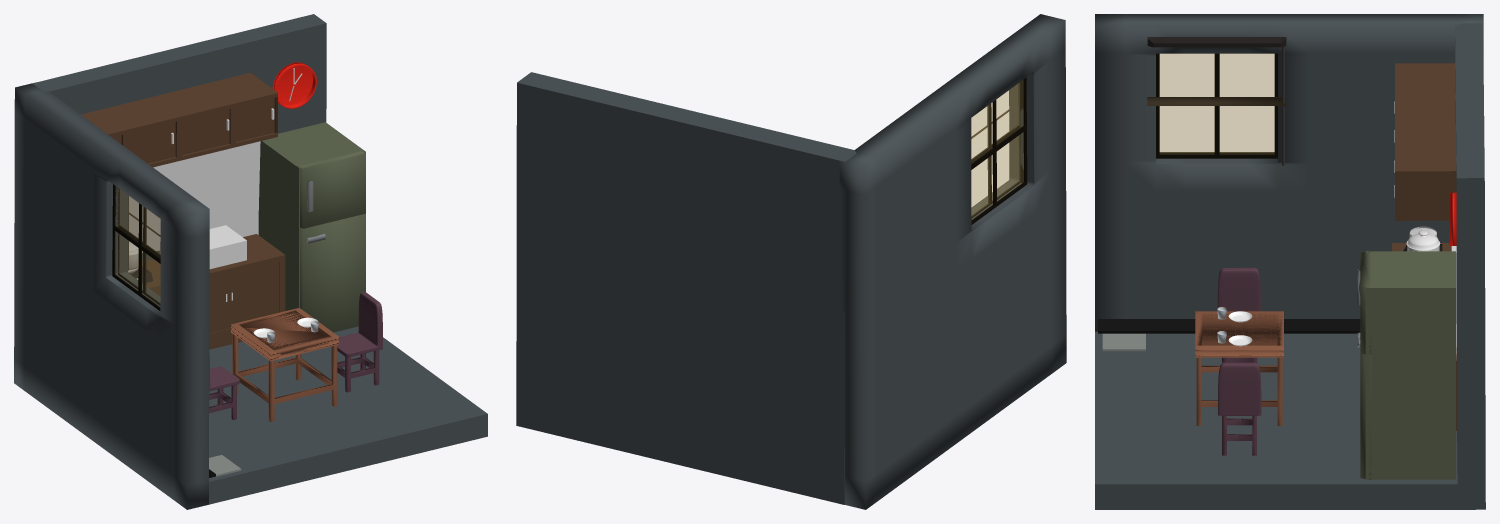
The model's file is dapur.glb.
The picture shows the model from 3 angles, left to right: view 1: azimuth 30°, elevation 25°; view 2: azimuth 150°, elevation 25°; view 3: azimuth 270°, elevation 25°; orthographic projection. The views are drawn at different scales.
Parts seen in each view (by area): view 1: Plane.001, Plane, Plane.002, Cube.022, Cube.010, Plane.005, Cube.012, Plane.007, Cube.011, Cube.032, Cube.007, Cube.033 (+8 smaller); view 2: Plane.002, Plane.001, Plane.007; view 3: Plane.001, Plane, Cube.010, Plane.002, Plane.007, Cube.022, Cube.032, Cube.038, Cube.035, Cube.036, Cube.028, Cube.033 (+6 smaller).
Boxes of the visible parts, bbox=[...] form: Plane.001: bbox=[14, 83, 209, 509]; Plane: bbox=[209, 326, 487, 504]; Plane.002: bbox=[32, 14, 326, 261]; Cube.022: bbox=[81, 72, 277, 167]; Cube.010: bbox=[258, 122, 365, 310]; Plane.005: bbox=[129, 141, 260, 252]; Cube.012: bbox=[300, 213, 365, 332]; Plane.007: bbox=[112, 184, 160, 310]; Cube.011: bbox=[296, 150, 365, 228]; Cube.032: bbox=[231, 307, 338, 361]; Cube.007: bbox=[229, 262, 279, 328]; Cube.033: bbox=[232, 334, 337, 421]; Plane.002: bbox=[516, 72, 856, 504]; Plane.001: bbox=[839, 14, 1066, 509]; Plane.007: bbox=[971, 77, 1027, 224]; Plane.001: bbox=[1095, 14, 1483, 331]; Plane: bbox=[1095, 331, 1460, 509]; Cube.010: bbox=[1365, 251, 1455, 479]; Plane.002: bbox=[1455, 23, 1485, 509]; Plane.007: bbox=[1156, 53, 1277, 158]; Cube.022: bbox=[1395, 63, 1456, 220]; Cube.032: bbox=[1195, 311, 1283, 357]; Cube.038: bbox=[1098, 319, 1360, 333]; Cube.035: bbox=[1218, 362, 1261, 415]; Cube.036: bbox=[1217, 267, 1260, 311]; Cube.028: bbox=[1147, 37, 1286, 47]; Cube.033: bbox=[1196, 357, 1282, 425].
Size of what is drawn, in the model's own units: 2.13 by 2 by 2.14.
